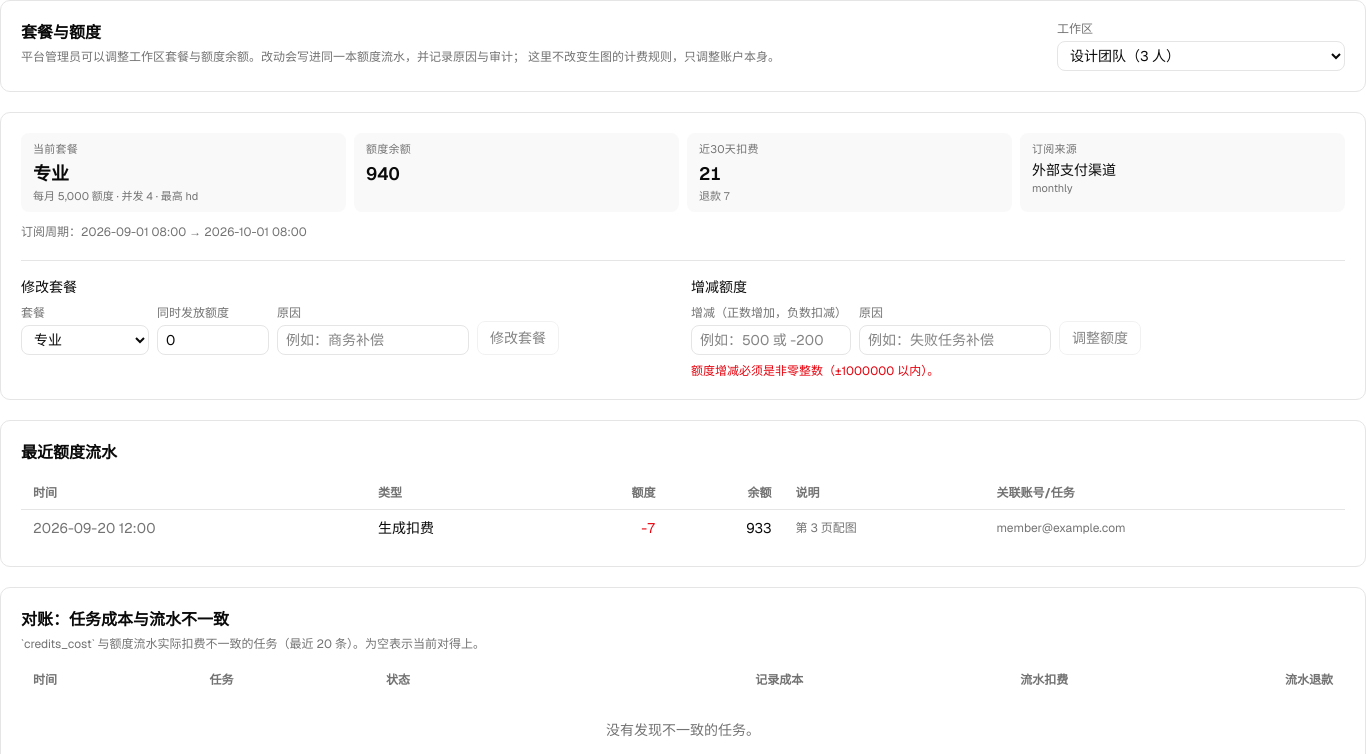
Scenario: admin billing section › surfaces an insufficient-balance refusal and keeps the panel usable
This screenshot has width=1366, height=754.
expect the button "修改套餐" is shown: met, box x1=477 y1=321 x2=559 y2=355
In the field named "额度增减数值": point(771, 340) x1=691 y1=325 x2=851 y2=355, type "-5000"
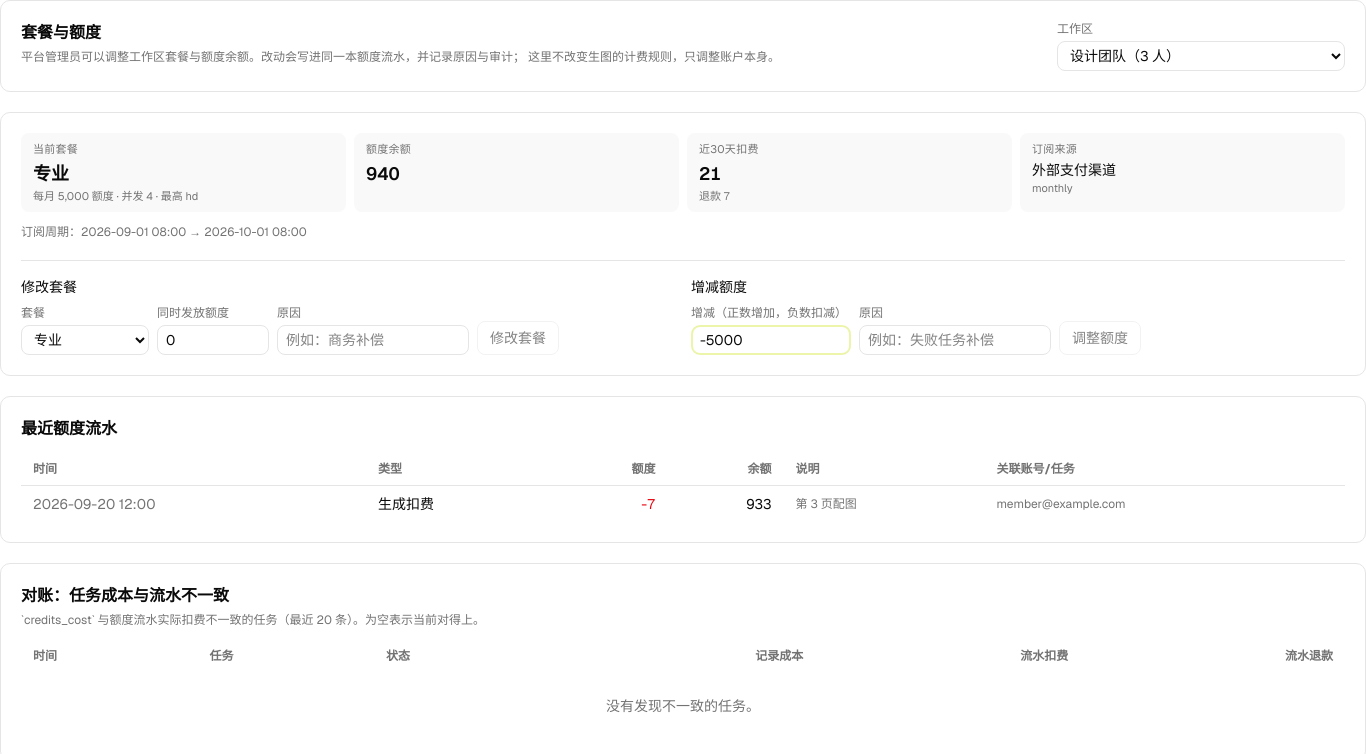
In the field named "调整额度原因": point(955, 340) x1=859 y1=325 x2=1051 y2=355, type "扣减"
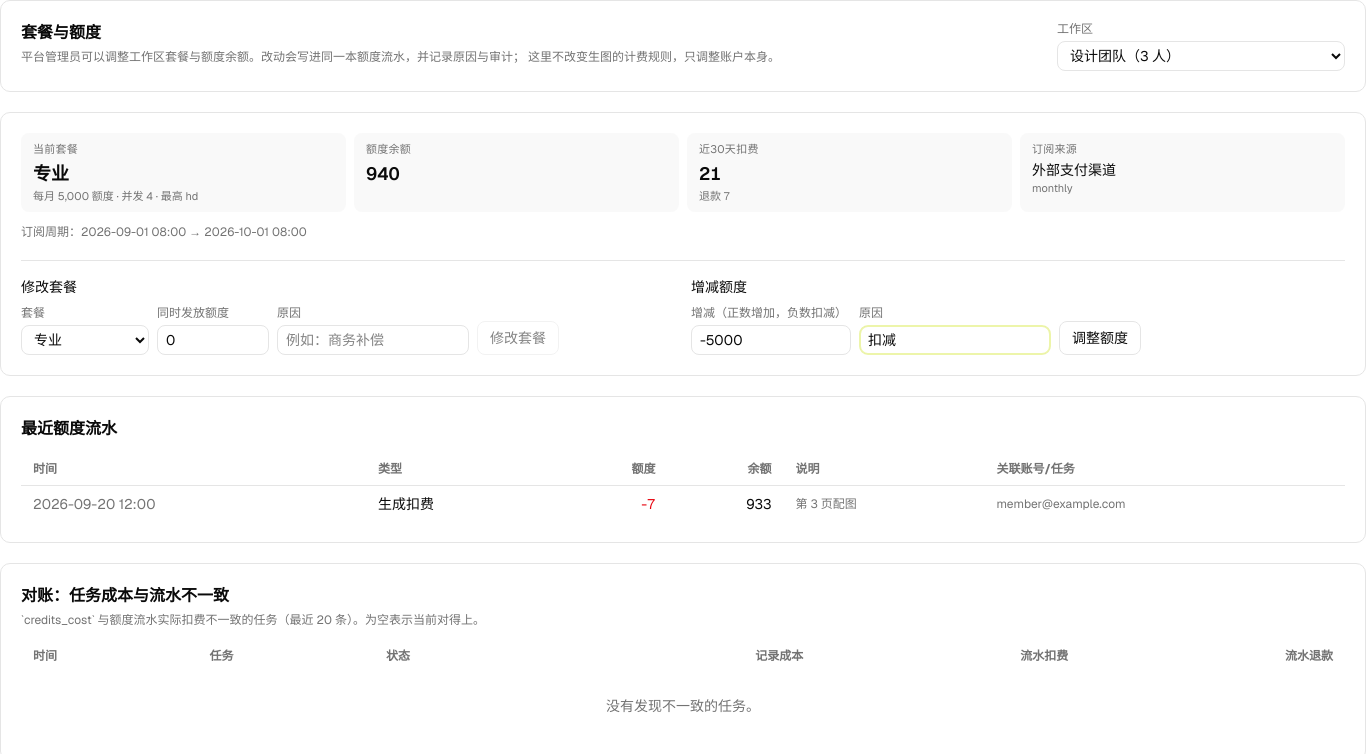
Click the button "调整额度": point(1100, 338) x1=1059 y1=321 x2=1141 y2=355
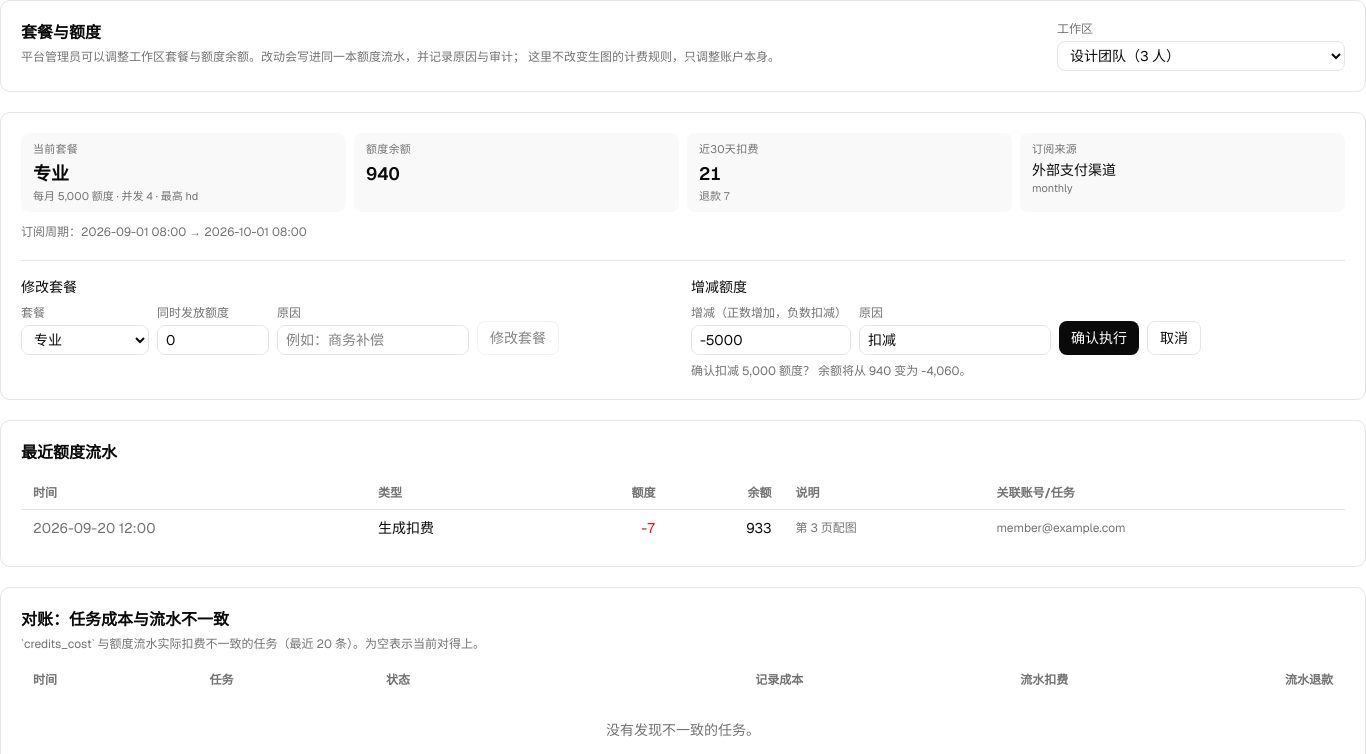
Click the button "确认执行": point(1099, 338) x1=1059 y1=321 x2=1139 y2=355
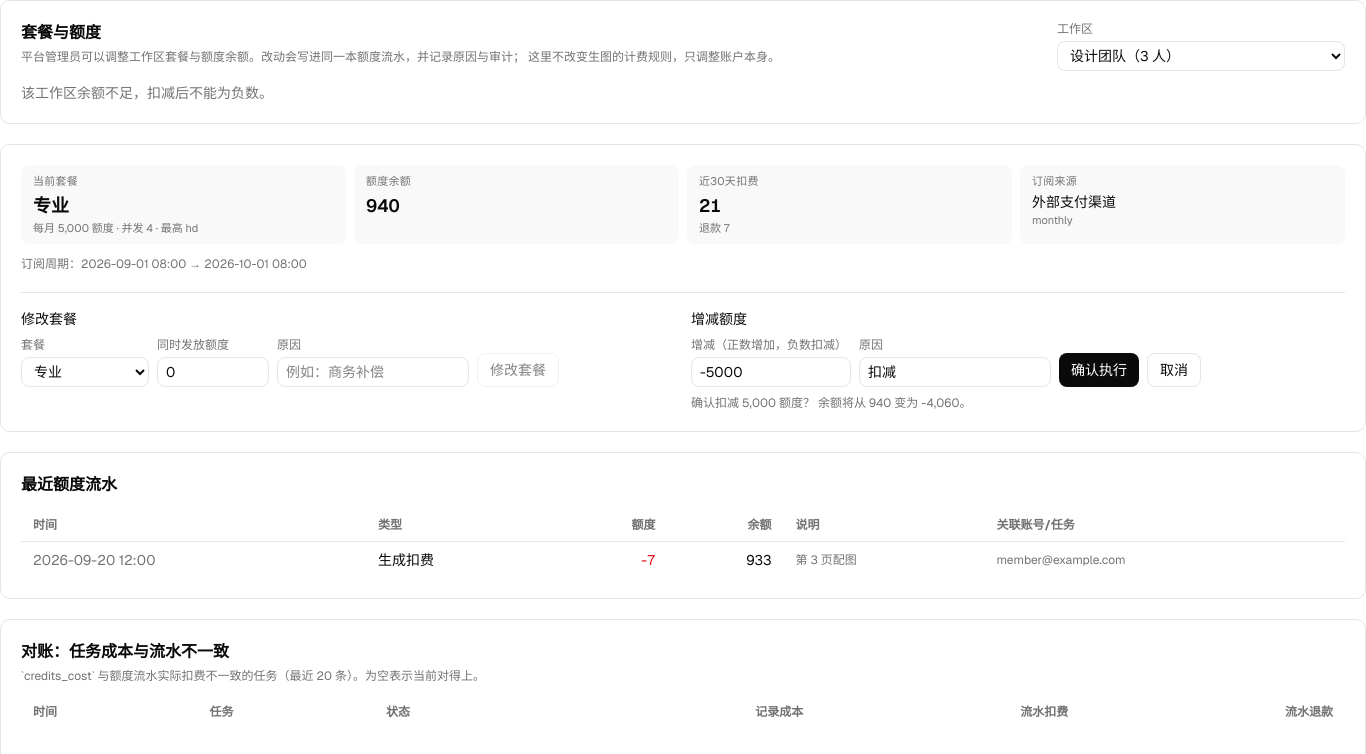
expect the table with test id "admin-billing-transactions" is shown: met, box x1=21 y1=509 x2=1345 y2=578
expect the text with test id "admin-billing-feedback" shows "余额不足": met, box x1=21 y1=84 x2=273 y2=102
